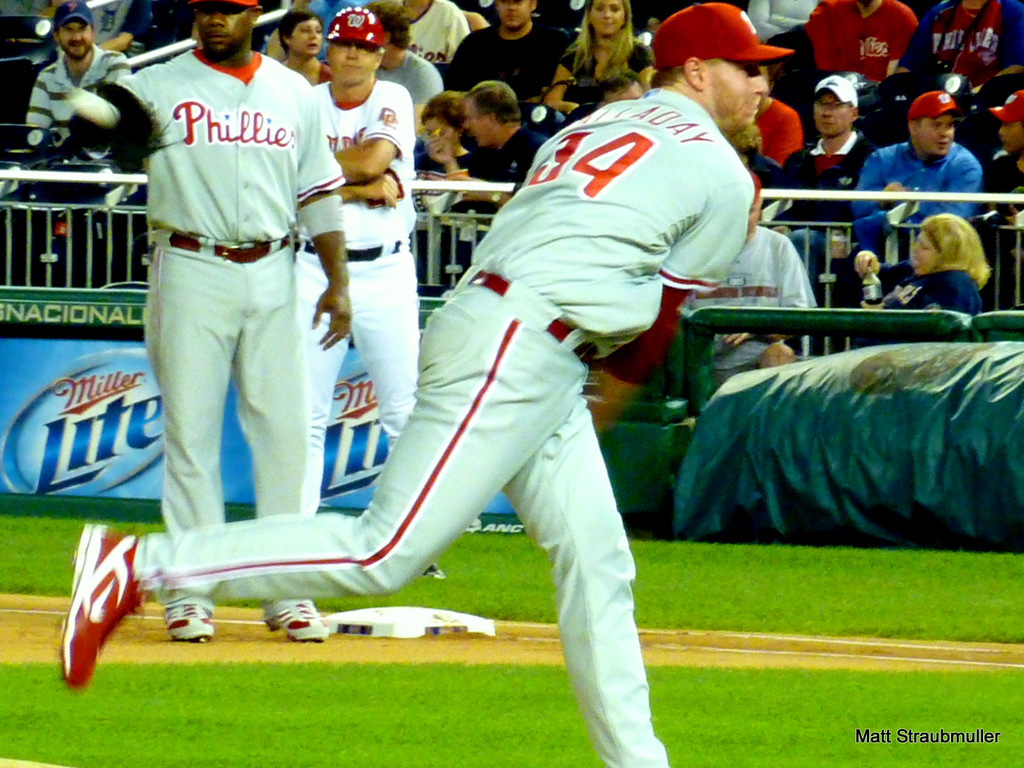person: (19, 2, 138, 290)
